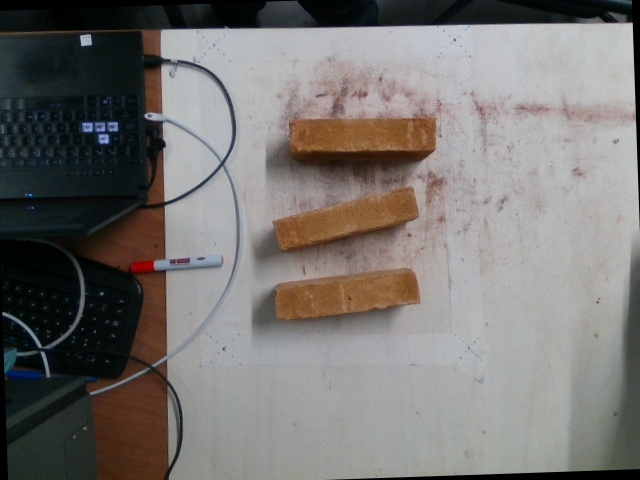brick-side: (273, 190, 415, 247), (276, 271, 419, 319), (293, 118, 434, 148)
